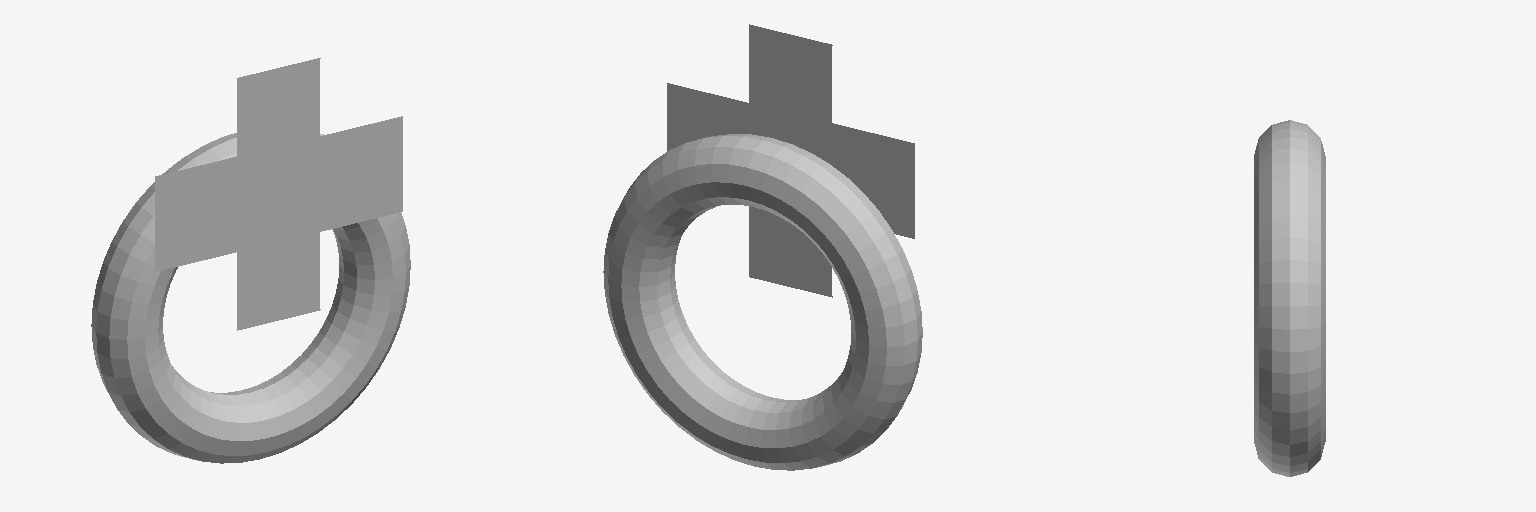
File: ExtraLife.obj
The picture shows the model from 3 angles: view 1: azimuth 30°, elevation 25°; view 2: azimuth 150°, elevation 25°; view 3: azimuth 270°, elevation 25°; orthographic projection.
Visible parts, largest first — view 1: Plane; view 2: Plane; view 3: Plane.
Boxes of the visible parts, x1,y1,x2,y2 form: Plane: [91, 58, 410, 463]; Plane: [603, 24, 922, 470]; Plane: [1254, 120, 1325, 476].
Bounding box in the file's own units: 2.5 × 3.16 × 0.6362.